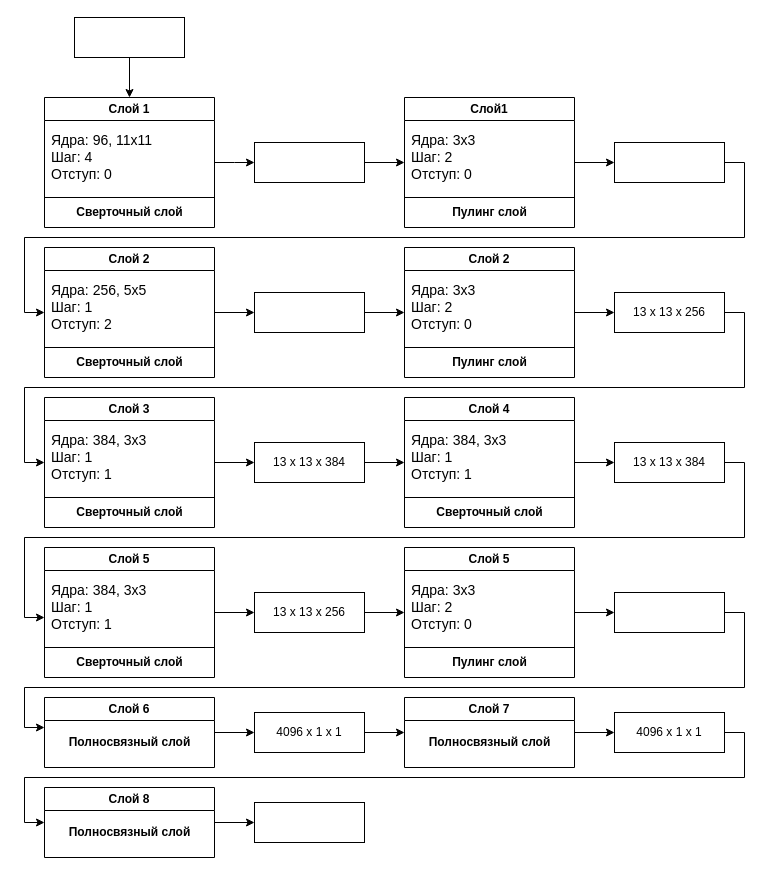
Some shapes in this 770 by 875 pixel diagram are drawn without their labels. The centre of each missing label's shape, as x and y in pixels:
1000 x 1 x 1: point 309,822
227 x 227 x 3: point 129,37
27 x 27 x 256: point 309,312
27 x 27 x 96: point 669,162
55 x 55 x 96: point 309,162
6 x 6 x 256: point 669,612
